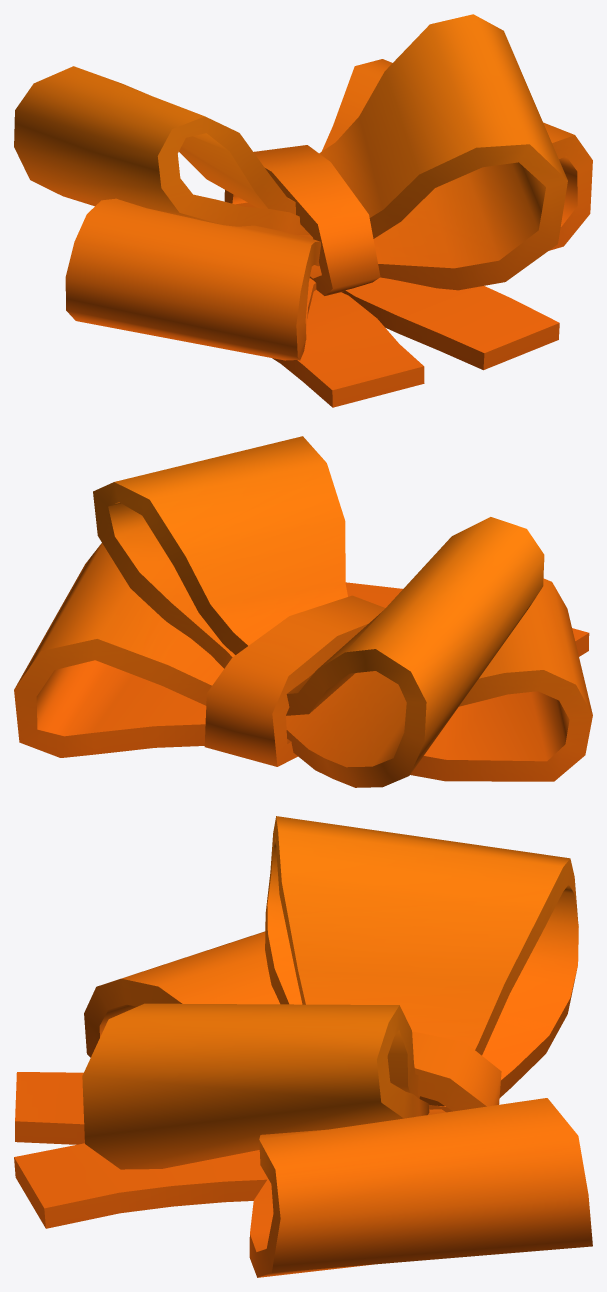
File: bow_020.fbx
The picture shows the model from 3 angles, top to bottom: view 1: azimuth 30°, elevation 25°; view 2: azimuth 150°, elevation 25°; view 3: azimuth 270°, elevation 25°; orthographic projection. The views are drawn at different scales.
Parts seen in each view (by area): view 1: bow_020; view 2: bow_020; view 3: bow_020.
Part boxes in pixels (left/top/right/bottom): bow_020: left=14, top=14, right=592, bottom=407; bow_020: left=14, top=436, right=592, bottom=787; bow_020: left=14, top=816, right=592, bottom=1277.
Bounding box in the file's own units: 246 × 206 × 99.13.
